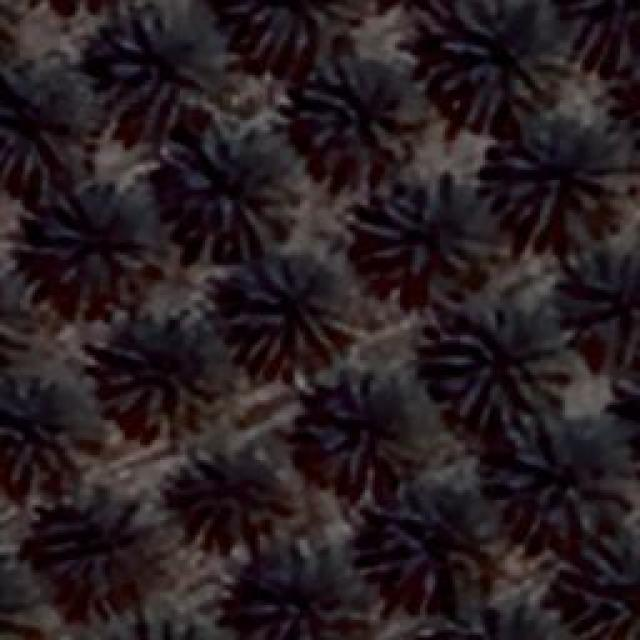PalmTree: (105, 298, 230, 450), (496, 402, 629, 542), (430, 305, 575, 430), (430, 2, 568, 130), (485, 128, 623, 246), (366, 180, 499, 302), (172, 128, 298, 255), (26, 196, 164, 309), (30, 500, 165, 615), (286, 368, 426, 478), (0, 46, 102, 193), (295, 52, 423, 160), (107, 0, 220, 118), (241, 547, 376, 640), (230, 250, 342, 362), (178, 448, 294, 556), (2, 368, 106, 488), (374, 496, 484, 602), (412, 583, 558, 640), (572, 254, 640, 376), (560, 532, 638, 638), (230, 0, 345, 60), (575, 0, 640, 90), (114, 603, 220, 640), (0, 555, 41, 640), (0, 271, 40, 356), (0, 0, 23, 54)
